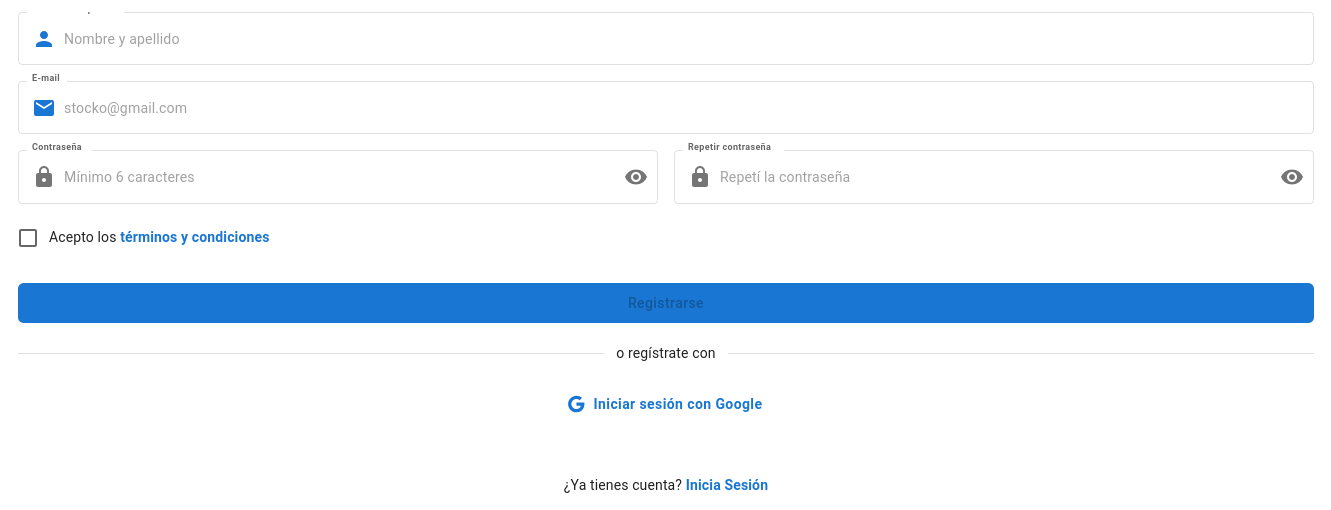
Test: RegisterForm › should enable the submit button after accepting terms
Click the checkbox.
click(143, 238)  # box [16, 226, 270, 250]
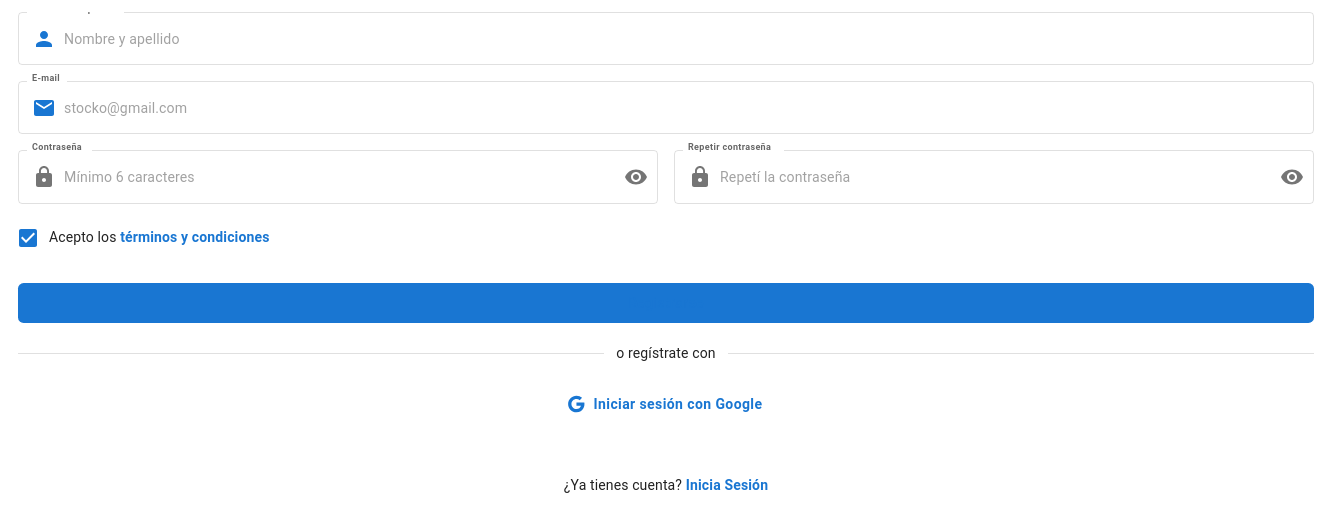
Now the button "Registrarse" is enabled, box [18, 282, 1314, 323]
